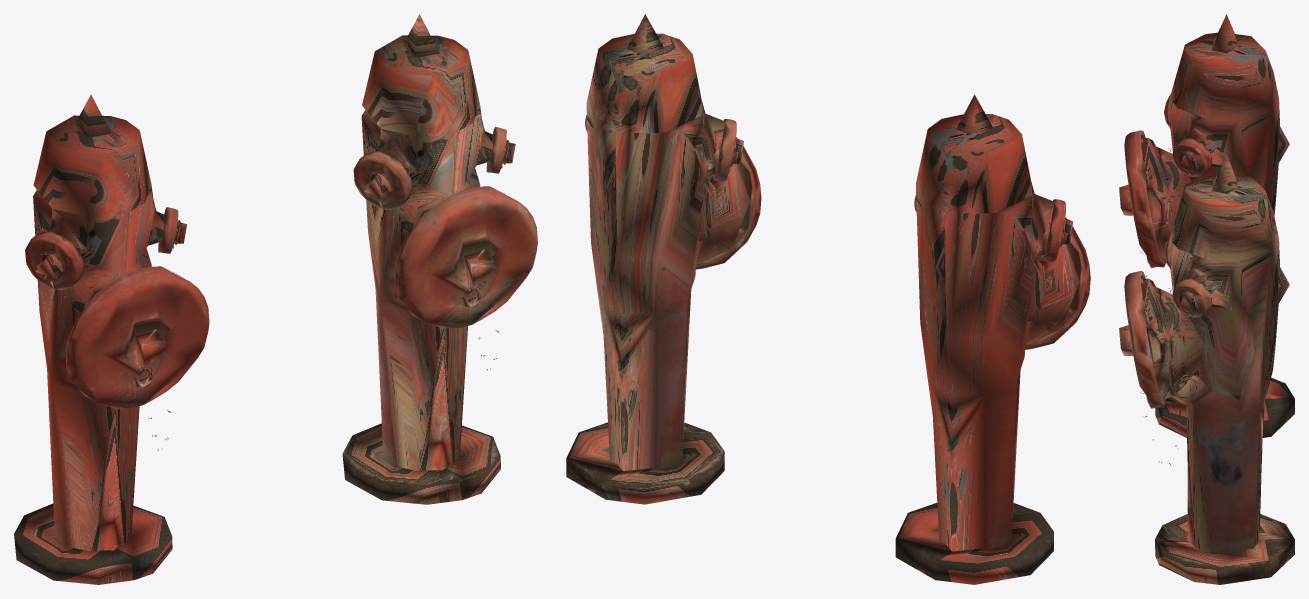
The model's file is fire_hydrant.gltf.
3 renders of one model, left to right at view 1: azimuth 30°, elevation 25°; view 2: azimuth 150°, elevation 25°; view 3: azimuth 270°, elevation 25°, orthographic. The views are drawn at different scales.
Visible parts, largest first — view 1: fire_hydrant_aged, fire_hydrant, fire_hydrant_cap_01_aged, fire_hydrant_cap_01, fire_hydrant_cap_03_aged, fire_hydrant_cap_03, fire_hydrant_cap_02, fire_hydrant_cap_02_aged; view 2: fire_hydrant_aged, fire_hydrant, fire_hydrant_cap_01_aged, fire_hydrant_cap_01, fire_hydrant_cap_03, fire_hydrant_cap_03_aged; view 3: fire_hydrant_aged, fire_hydrant, fire_hydrant_cap_01, fire_hydrant_cap_01_aged, fire_hydrant_cap_02_aged, fire_hydrant_cap_02, fire_hydrant_chain_aged.
Part boxes in pixels (bbox=[...]): fire_hydrant_aged: bbox=[342, 14, 500, 504]; fire_hydrant: bbox=[14, 94, 172, 584]; fire_hydrant_cap_01_aged: bbox=[394, 186, 537, 328]; fire_hydrant_cap_01: bbox=[66, 266, 209, 408]; fire_hydrant_cap_03_aged: bbox=[353, 151, 412, 209]; fire_hydrant_cap_03: bbox=[25, 231, 83, 289]; fire_hydrant_cap_02: bbox=[158, 207, 187, 253]; fire_hydrant_cap_02_aged: bbox=[486, 127, 515, 173]; fire_hydrant_aged: bbox=[566, 14, 750, 504]; fire_hydrant: bbox=[895, 94, 1079, 584]; fire_hydrant_cap_01_aged: bbox=[696, 146, 761, 269]; fire_hydrant_cap_01: bbox=[1025, 226, 1090, 349]; fire_hydrant_cap_03: bbox=[1042, 199, 1073, 262]; fire_hydrant_cap_03_aged: bbox=[713, 119, 743, 181]; fire_hydrant_aged: bbox=[1142, 155, 1294, 584]; fire_hydrant: bbox=[1142, 14, 1294, 437]; fire_hydrant_cap_01: bbox=[1119, 130, 1165, 267]; fire_hydrant_cap_01_aged: bbox=[1119, 271, 1165, 408]; fire_hydrant_cap_02_aged: bbox=[1172, 279, 1212, 317]; fire_hydrant_cap_02: bbox=[1172, 138, 1212, 177]; fire_hydrant_chain_aged: bbox=[1140, 288, 1196, 465].
Size of the model in its own units: 0.8745 by 0.7975 by 0.3173.
Materials: 2 (2 with a texture image).
